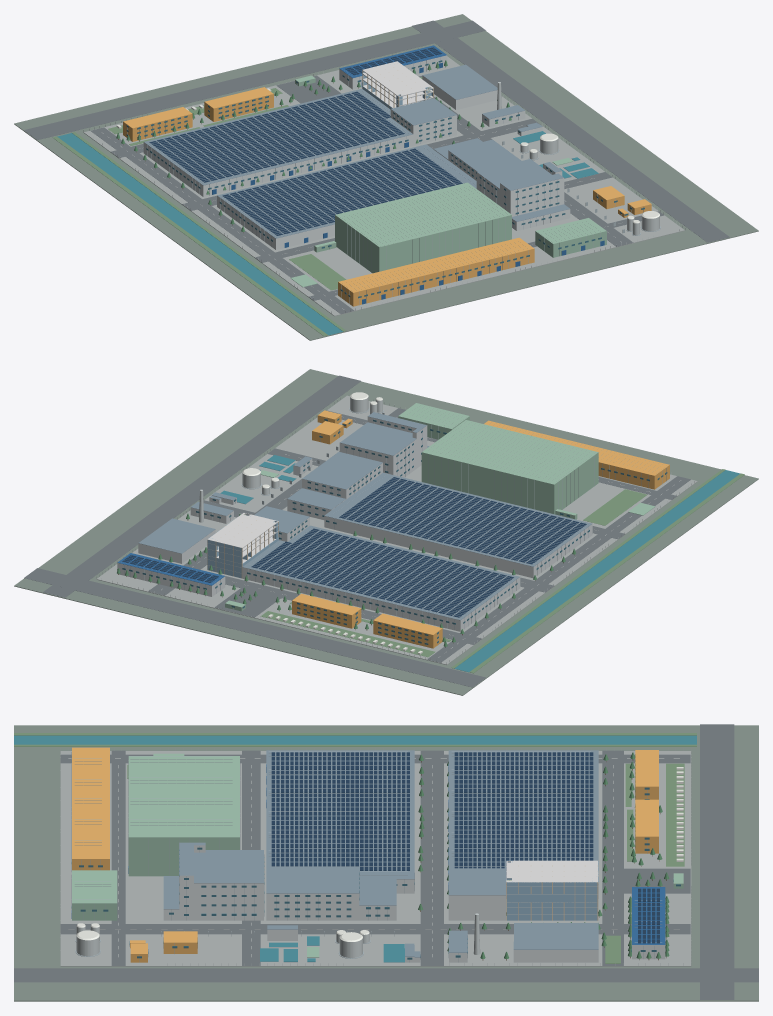
Rendered from fuweier-factory-site.glb.
3 renders of one model, top to bottom at view 1: azimuth 30°, elevation 25°; view 2: azimuth 150°, elevation 25°; view 3: azimuth 270°, elevation 25°, orthographic. The views are drawn at different scales.
Parts seen in each view (by area): view 1: Local_flat_terrain, Public_roads_context, Campus_paved_base, P1_HALL_PV_illustrative, P1_HALL_roof, P2_HALL_PV_illustrative, Internal_roads_assumed_edges, P2_HALL_roof, WAREHOUSE_roof, WAREHOUSE_CAD_mass, Canal_context_unmeasured, P1_HALL_CAD_mass (+24 smaller); view 2: Local_flat_terrain, Public_roads_context, Campus_paved_base, P1_HALL_PV_illustrative, P2_HALL_PV_illustrative, P1_HALL_roof, P2_HALL_roof, Internal_roads_assumed_edges, WAREHOUSE_roof, WAREHOUSE_CAD_mass, Canal_context_unmeasured, P1_HALL_CAD_mass (+24 smaller); view 3: Local_flat_terrain, Campus_paved_base, Internal_roads_assumed_edges, Public_roads_context, P2_HALL_PV_illustrative, P1_HALL_PV_illustrative, P2_HALL_roof, P1_HALL_roof, WAREHOUSE_roof, Canal_context_unmeasured, HALL3_roof, Canal_banks (+33 smaller).
Boxes of the visible parts, x1=… form: Local_flat_terrain: x1=14, y1=14, x2=758, y2=340; Public_roads_context: x1=24, y1=20, x2=729, y2=242; Campus_paved_base: x1=83, y1=56, x2=684, y2=316; P1_HALL_PV_illustrative: x1=149, y1=91, x2=404, y2=182; P1_HALL_roof: x1=144, y1=88, x2=413, y2=185; P2_HALL_PV_illustrative: x1=222, y1=148, x2=462, y2=235; Internal_roads_assumed_edges: x1=90, y1=75, x2=663, y2=313; P2_HALL_roof: x1=217, y1=146, x2=476, y2=238; WAREHOUSE_roof: x1=335, y1=182, x2=511, y2=247; WAREHOUSE_CAD_mass: x1=335, y1=215, x2=511, y2=273; Canal_context_unmeasured: x1=57, y1=133, x2=342, y2=335; P1_HALL_CAD_mass: x1=143, y1=134, x2=413, y2=196; Local_flat_terrain: x1=14, y1=369, x2=758, y2=695; Public_roads_context: x1=24, y1=375, x2=485, y2=687; Campus_paved_base: x1=96, y1=395, x2=697, y2=664; P1_HALL_PV_illustrative: x1=251, y1=528, x2=513, y2=617; P2_HALL_PV_illustrative: x1=339, y1=477, x2=586, y2=564; P1_HALL_roof: x1=242, y1=525, x2=519, y2=620; P2_HALL_roof: x1=331, y1=474, x2=592, y2=566; Internal_roads_assumed_edges: x1=148, y1=408, x2=690, y2=662; WAREHOUSE_roof: x1=421, y1=420, x2=598, y2=484; WAREHOUSE_CAD_mass: x1=421, y1=452, x2=598, y2=514; Canal_context_unmeasured: x1=454, y1=470, x2=740, y2=672; P1_HALL_CAD_mass: x1=242, y1=567, x2=520, y2=631; Local_flat_terrain: x1=14, y1=725, x2=758, y2=1001; Campus_paved_base: x1=60, y1=751, x2=691, y2=966; Internal_roads_assumed_edges: x1=60, y1=750, x2=690, y2=965; Public_roads_context: x1=14, y1=724, x2=758, y2=999; P2_HALL_PV_illustrative: x1=271, y1=752, x2=409, y2=870; P1_HALL_PV_illustrative: x1=454, y1=752, x2=593, y2=879; P2_HALL_roof: x1=266, y1=750, x2=414, y2=874; P1_HALL_roof: x1=448, y1=750, x2=598, y2=884; WAREHOUSE_roof: x1=128, y1=756, x2=239, y2=837; Canal_context_unmeasured: x1=14, y1=735, x2=696, y2=744; HALL3_roof: x1=72, y1=747, x2=109, y2=859; Canal_banks: x1=14, y1=733, x2=696, y2=746.
Bounding box in the file's own units: 420 × 33.23 × 480.
